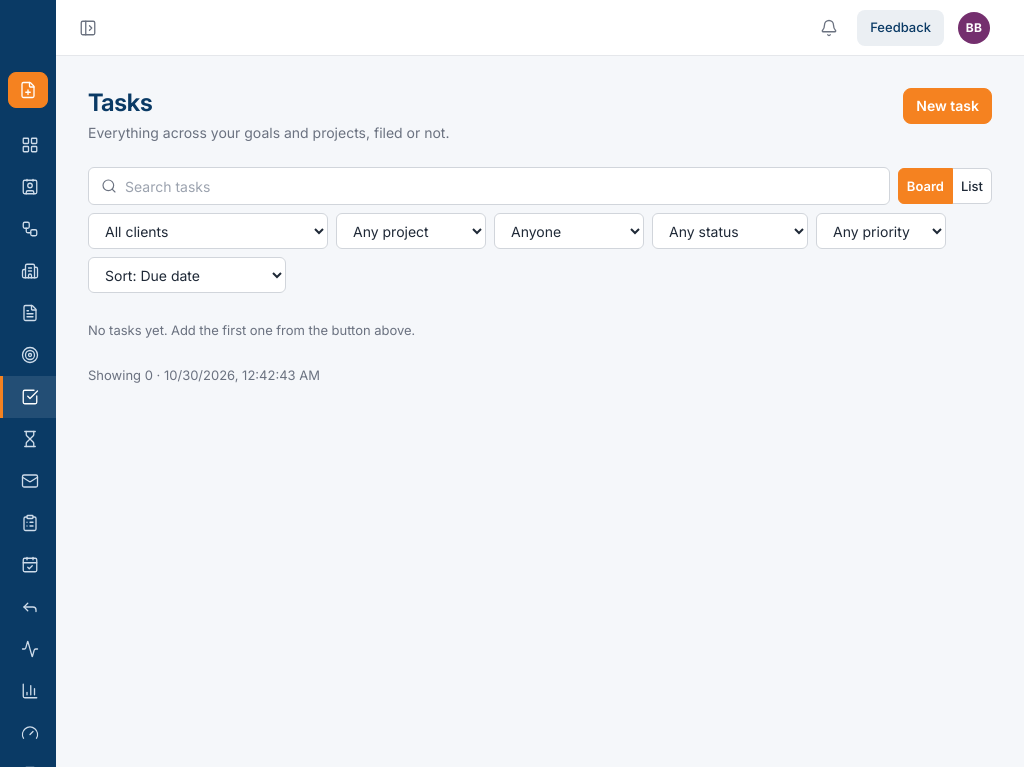
Settings › gives VA no Settings entry in the menu
Check: the header named "Top bar" is shown, box [56,0,1023,56]
Click the button with aria-label "Your account". click: (974, 28)
box: [956,10,992,46]
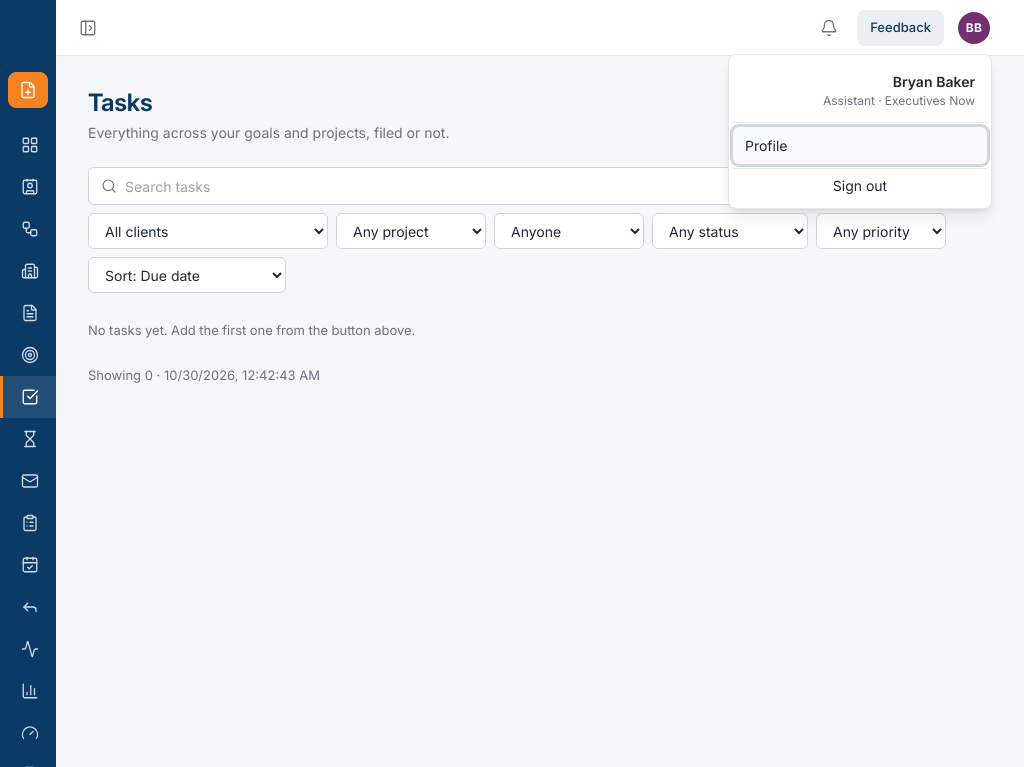
Check: the menu item "Sign out" is shown, box [733,168,987,204]
